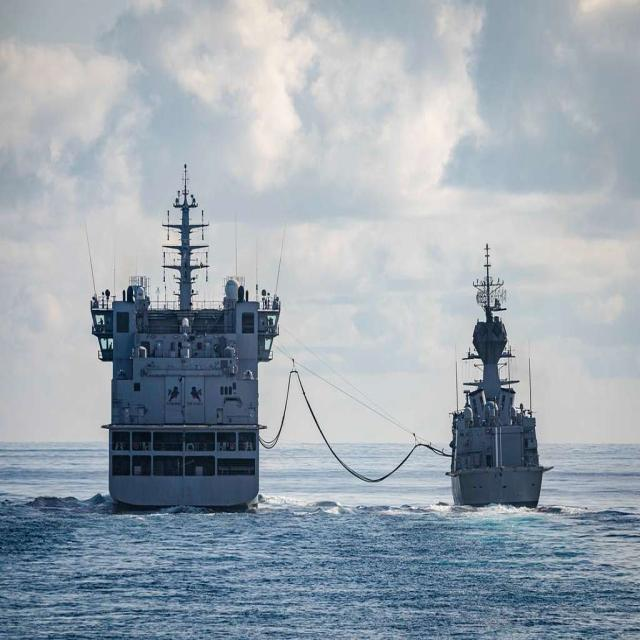Tanker-Deepak-Class-IND: (92, 153, 285, 510)
